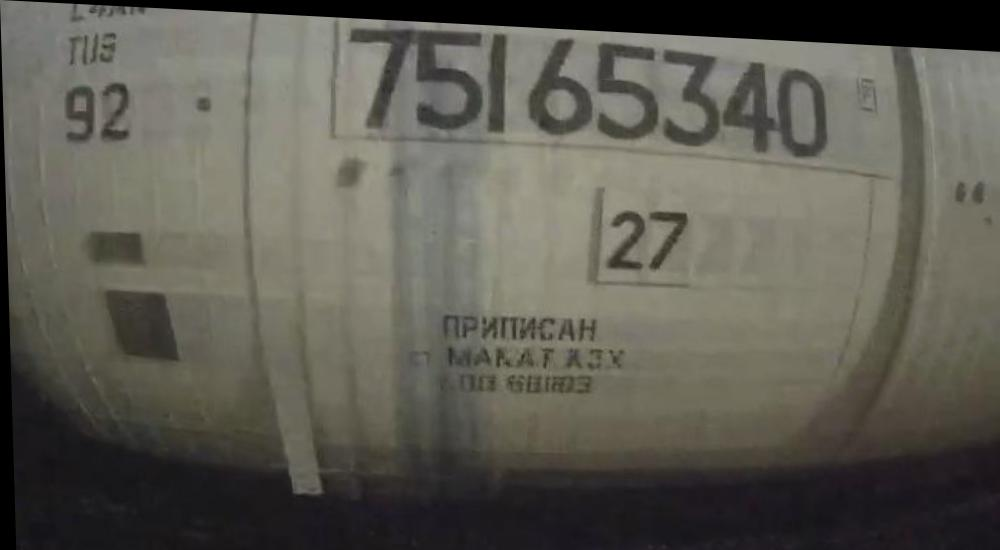Wagon-number: (343, 14, 838, 158)
